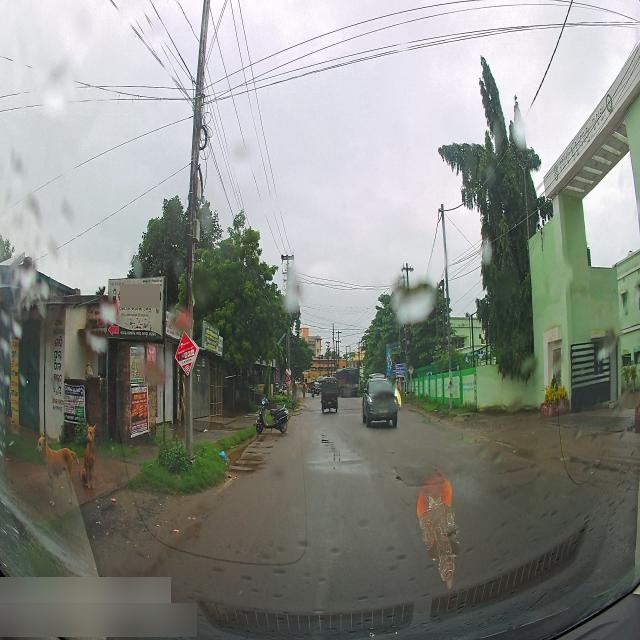pothole: (315, 424, 347, 469)
